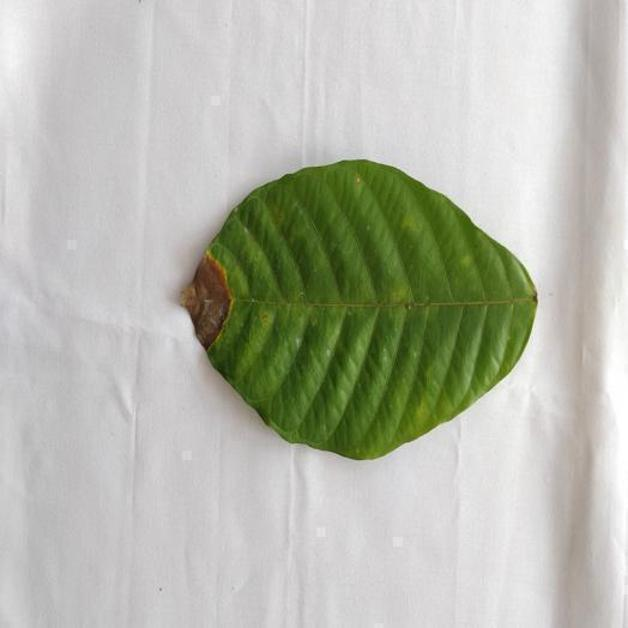Potassium: (182, 160, 536, 458)
